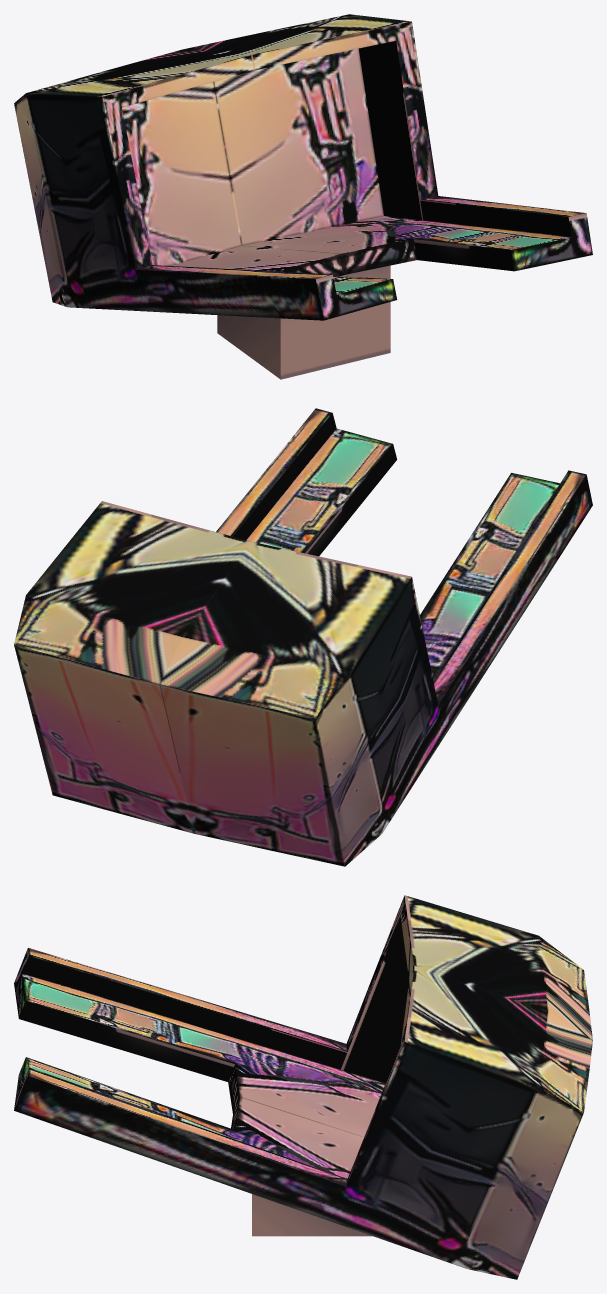
File: rail_cannon.fbx
3 renders of one model, top to bottom at view 1: azimuth 30°, elevation 25°; view 2: azimuth 150°, elevation 25°; view 3: azimuth 270°, elevation 25°, orthographic. The views are drawn at different scales.
Visible parts, largest first — view 1: Cube; view 2: Cube; view 3: Cube.
Part boxes in pixels (x1,y1,x2,y2): Cube: (14,14,592,379); Cube: (14,408,592,866); Cube: (14,895,592,1279).
Size of the model in its own units: 212 by 157 by 340.
